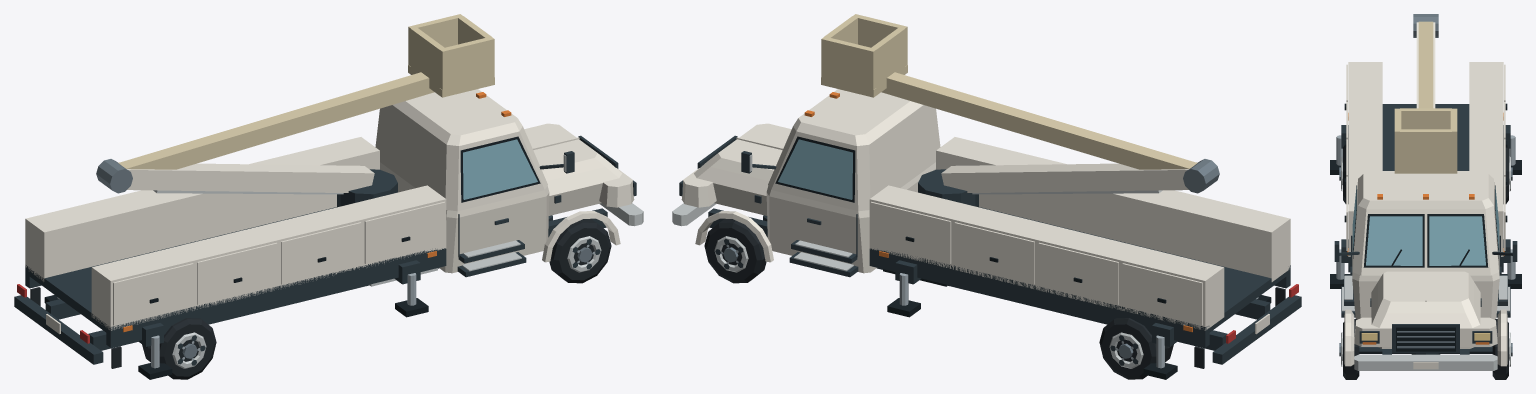
Rendered from b15_bucket_utility_truck.glb.
The picture shows the model from 3 angles, left to right: view 1: azimuth 30°, elevation 25°; view 2: azimuth 150°, elevation 25°; view 3: azimuth 270°, elevation 25°; orthographic projection. The views are drawn at different scales.
Visible parts, largest first — view 1: b15_bucket_utility_truck; view 2: b15_bucket_utility_truck; view 3: b15_bucket_utility_truck.
Part boxes in pixels (bbox=[...]): b15_bucket_utility_truck: bbox=[14, 14, 643, 379]; b15_bucket_utility_truck: bbox=[672, 14, 1301, 379]; b15_bucket_utility_truck: bbox=[1330, 14, 1521, 379].
Bounding box in the file's own units: 9.18 × 3.79 × 3.01.
